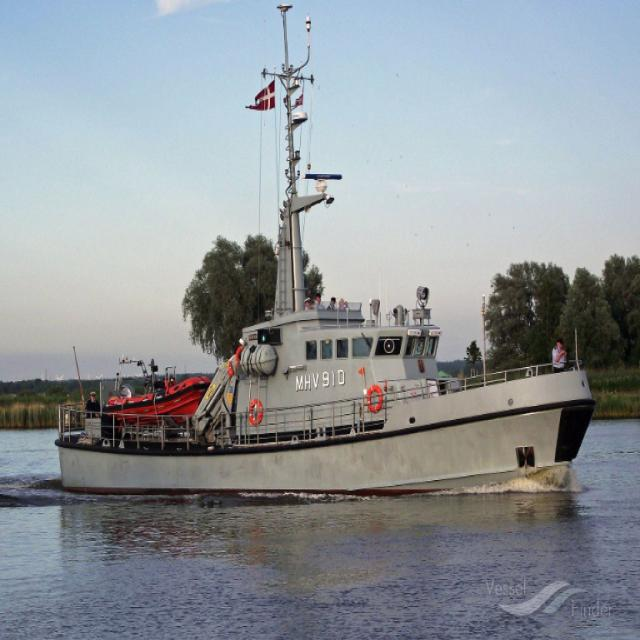OCR: (289, 366, 346, 400)
